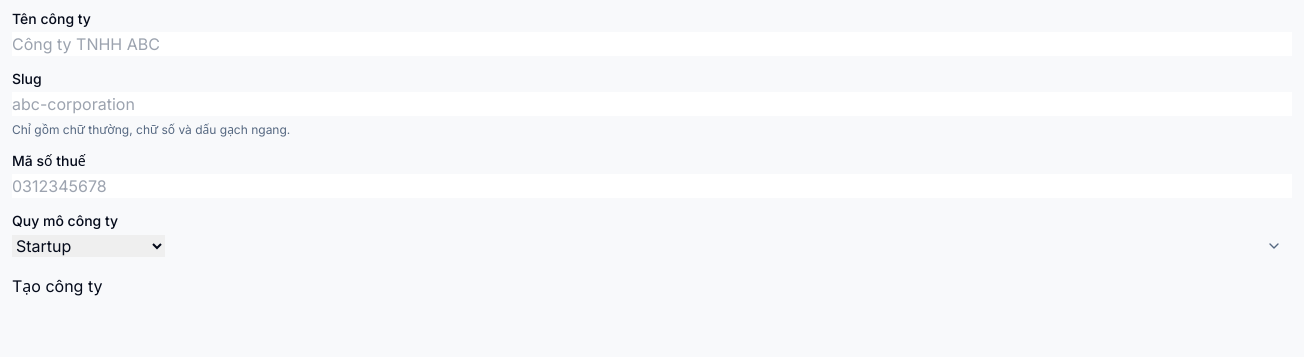
Test: CompanyForm › requires company name
The image size is (1304, 357).
Click the button "Tạo công ty" at (57,286), box [12,274,102,298]
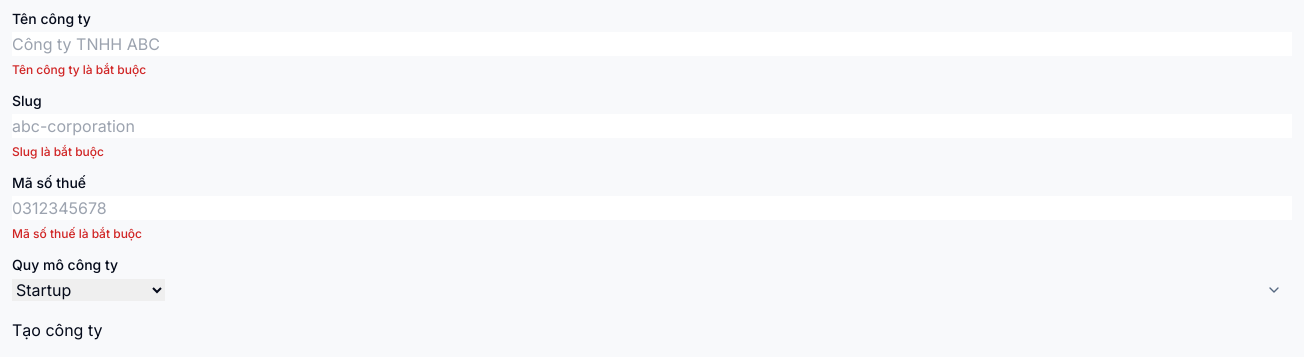
Now the text "Tên công ty là bắt buộc" is shown, box [12,62,146,77]
